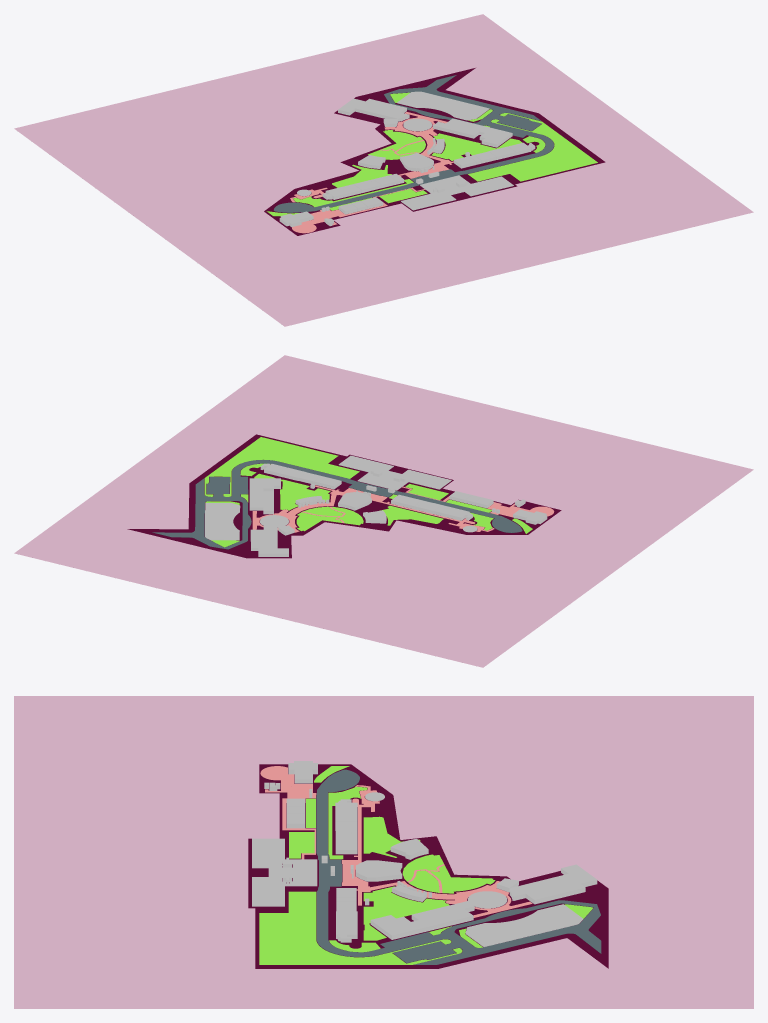
The model's file is njc-l1-v5-30-4.glb.
The picture shows the model from 3 angles, top to bottom: view 1: azimuth 30°, elevation 25°; view 2: azimuth 150°, elevation 25°; view 3: azimuth 270°, elevation 25°; orthographic projection. The views are drawn at different scales.
Parts seen in each view (by area): view 1: Grey, Grass, Base, None, Drive, Foot, Canteen, Parade Square; view 2: Grey, Base, Grass, None, Drive, Foot, Canteen, Parade Square; view 3: Grey, Grass, Base, None, Drive, Foot, Canteen, Parade Square, Atrium, DS3.
Part boxes in pixels (box(x1,y1,x2,y2)): Grey: box(14, 14, 753, 326); Grass: box(266, 92, 597, 216); Base: box(264, 68, 605, 235); None: box(338, 98, 535, 214); Drive: box(273, 75, 554, 212); Foot: box(290, 112, 453, 233); Canteen: box(401, 175, 513, 210); Parade Square: box(397, 91, 489, 120); Grey: box(14, 355, 753, 667); Base: box(127, 434, 561, 558); Grass: box(204, 437, 532, 547); None: box(249, 463, 493, 556); Drive: box(152, 460, 522, 549); Foot: box(252, 485, 554, 532); Canteen: box(338, 455, 451, 490); Parade Square: box(205, 503, 240, 540); Grey: box(14, 696, 753, 1008); Grass: box(259, 766, 592, 964); Base: box(248, 764, 608, 968); None: box(286, 798, 597, 942); Drive: box(316, 769, 601, 964); Foot: box(260, 766, 532, 917); Canteen: box(252, 838, 317, 906); Parade Square: box(465, 904, 583, 946); Atrium: box(467, 891, 507, 908); DS3: box(288, 761, 317, 783).
Size of the model in its own units: 30 by 0.2 by 30.
